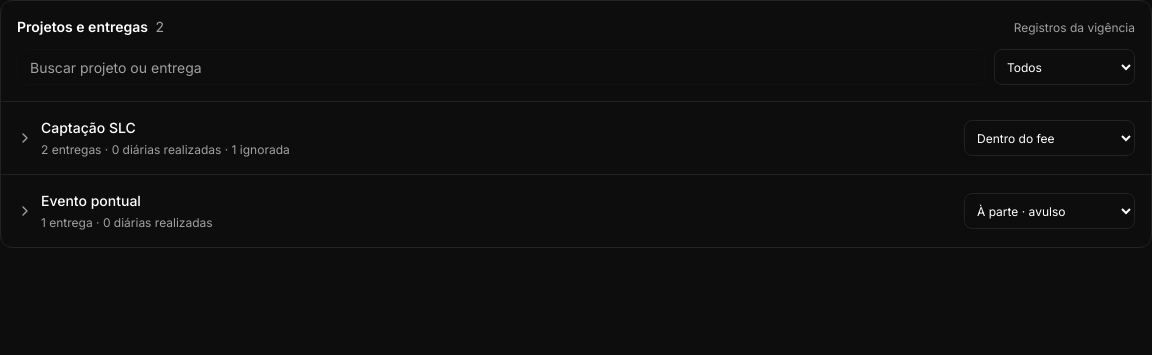
Test: busca sem acentos por projeto e por entrega, preservando itens à parte
Step 1. Type "captacao" into the field named "Buscar entrega do contrato" → (502, 67), box 17,49 -> 986,85
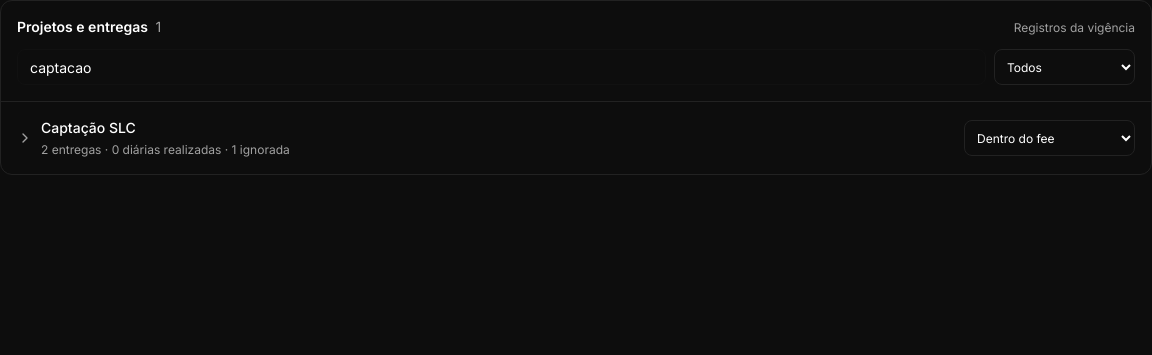
Expected: the button "Captação SLC 2 entregas · 0 diárias realizadas · 1 ignorada" is shown, 17,118 -> 952,158
Expected: the button "Evento pontual" is gone
Step 2. Replace the text in the field named "Buscar entrega do contrato" with "video do evento" → (502, 67), box 17,49 -> 986,85
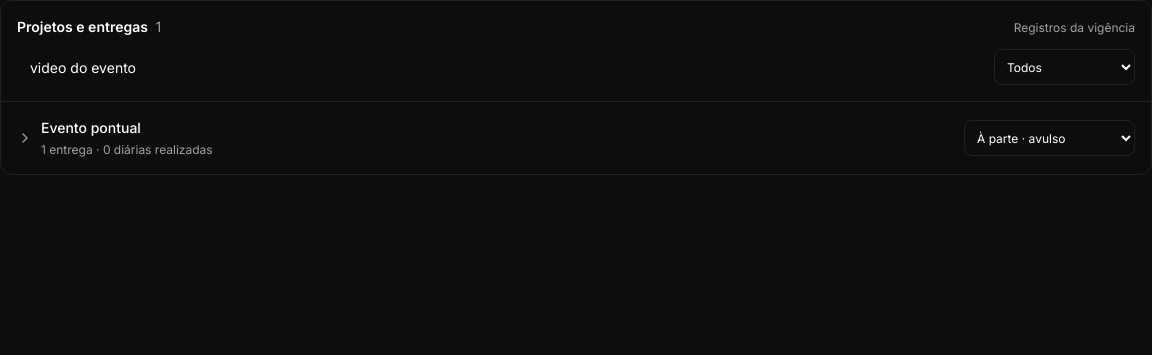
Step 3. Click the button "Evento pontual 1 entrega · 0 diárias realizadas" → (91, 128), box 17,118 -> 952,158
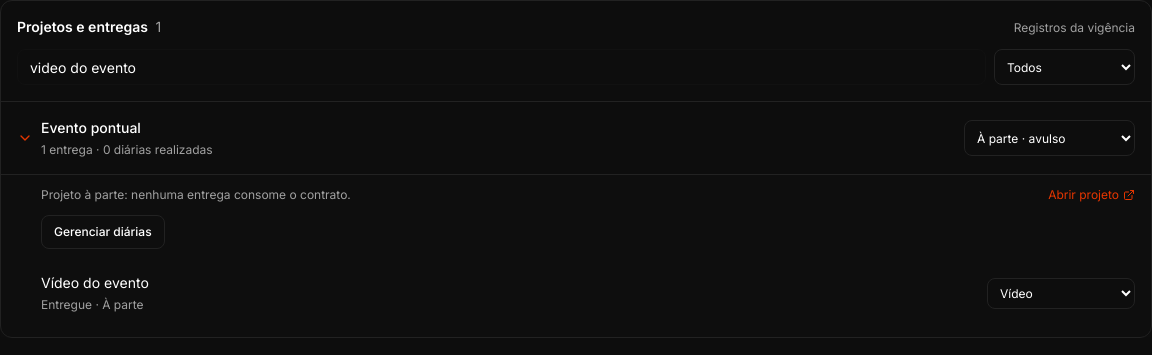
Expected: the dropdown named "Tipo de Vídeo do evento" is shown, 987,278 -> 1135,308
